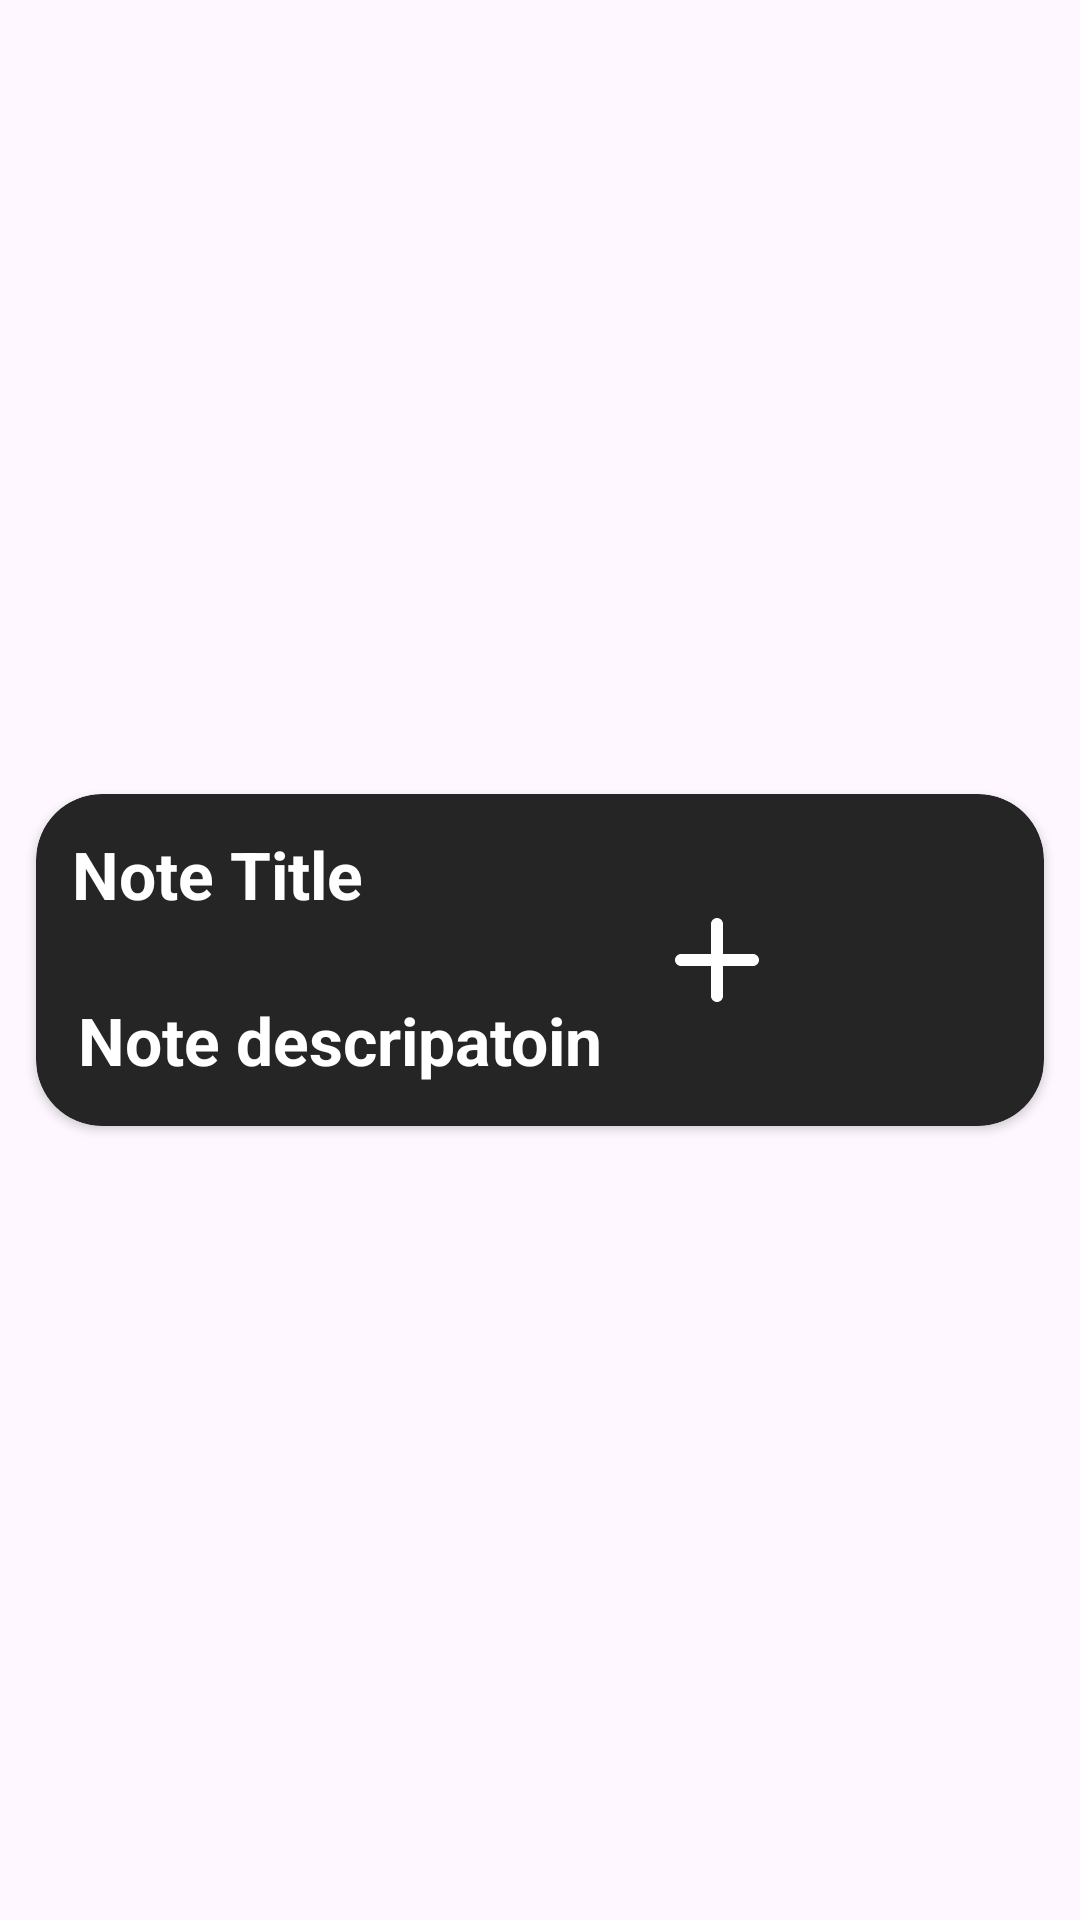

Point at icon controls on the screen. Image size 1080*1920, points as [x,y].
add: [717,960]
